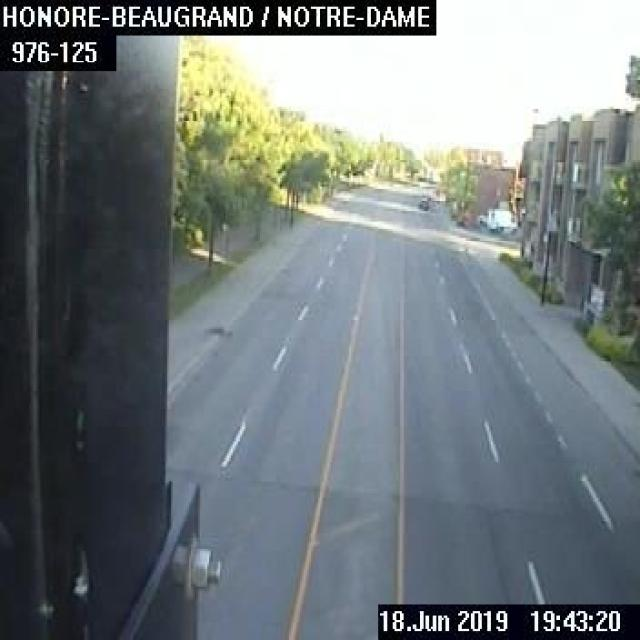vehicle: (416, 196, 429, 209)
